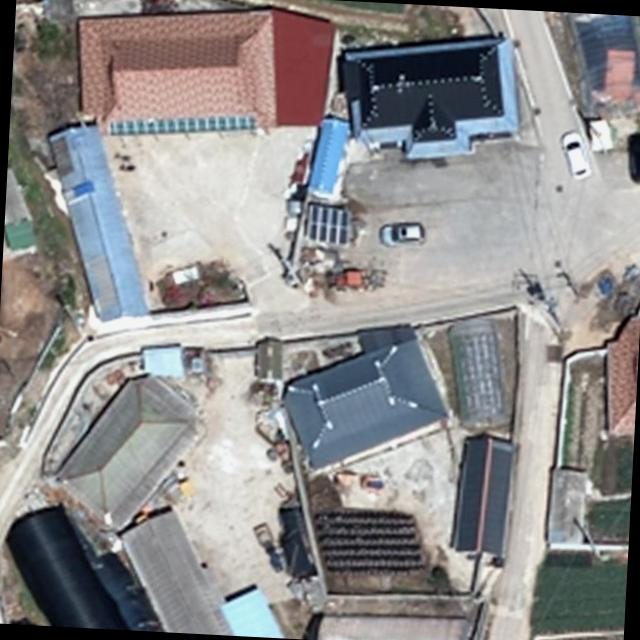solar: (302, 200, 355, 247)
